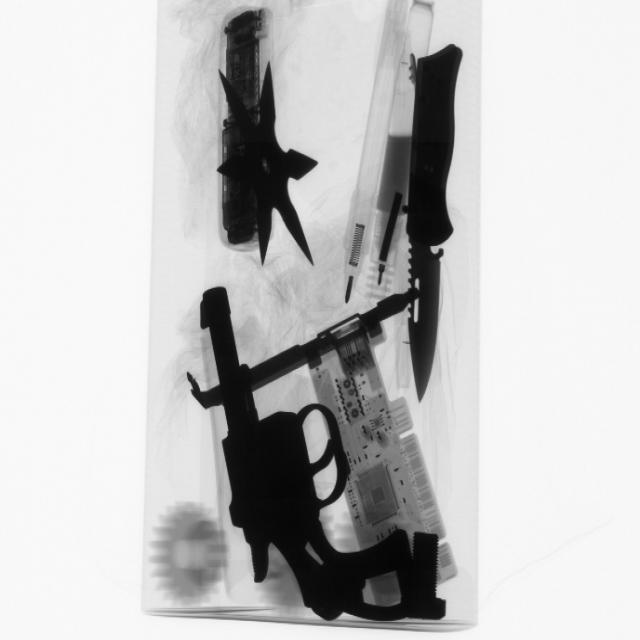GUN: (196, 283, 419, 625)
KNIFE: (392, 37, 475, 398)
SHURIKEN: (214, 54, 323, 274)
